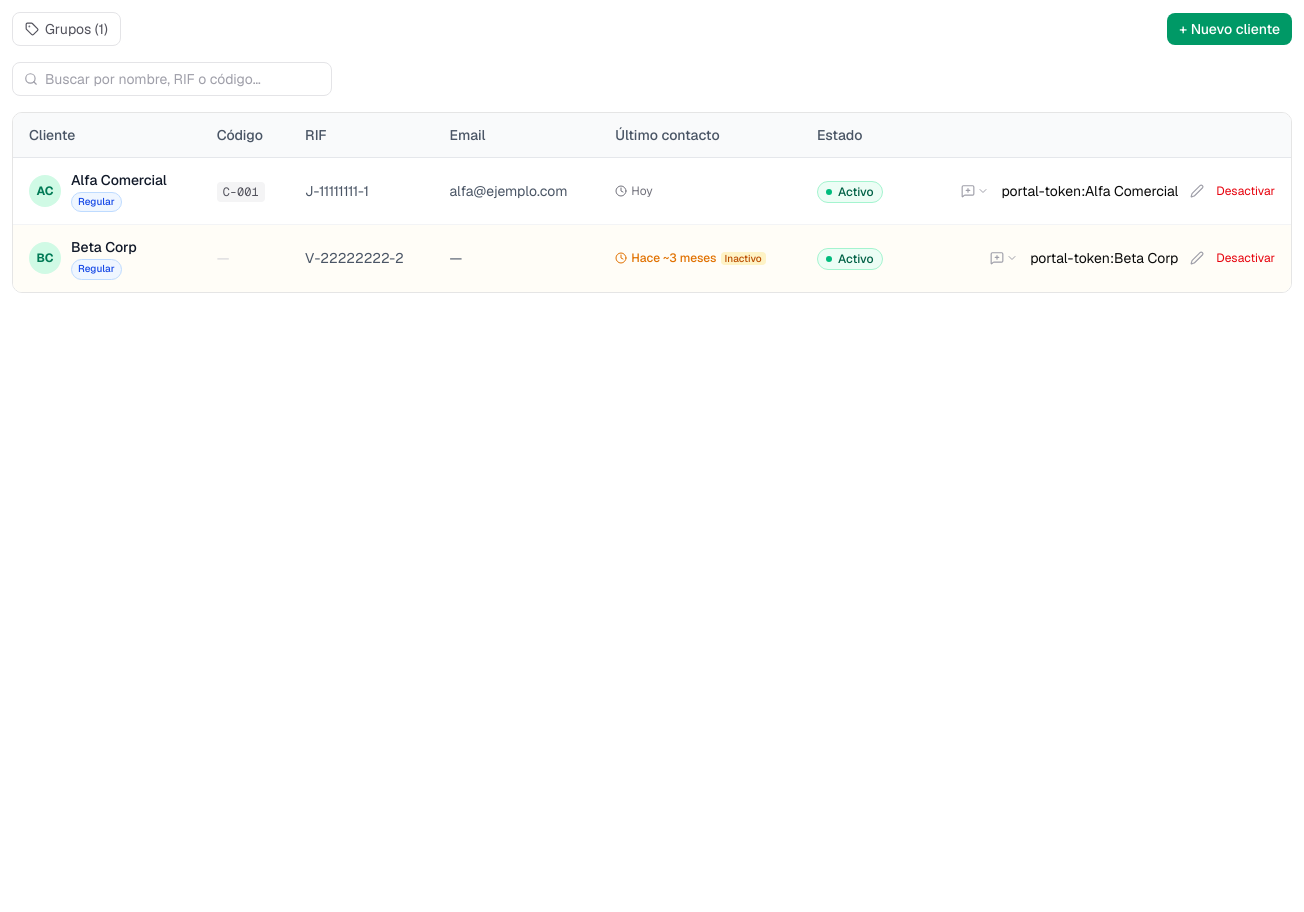
CustomerList — smoke del refactor RHF (P2) › createCustomerAction failure → muestra el error de la action y el form sigue abierto
The width and height of the screenshot is (1304, 912).
Click the button "+ Nuevo cliente": x=1230, y=29 [1167, 13, 1292, 45]
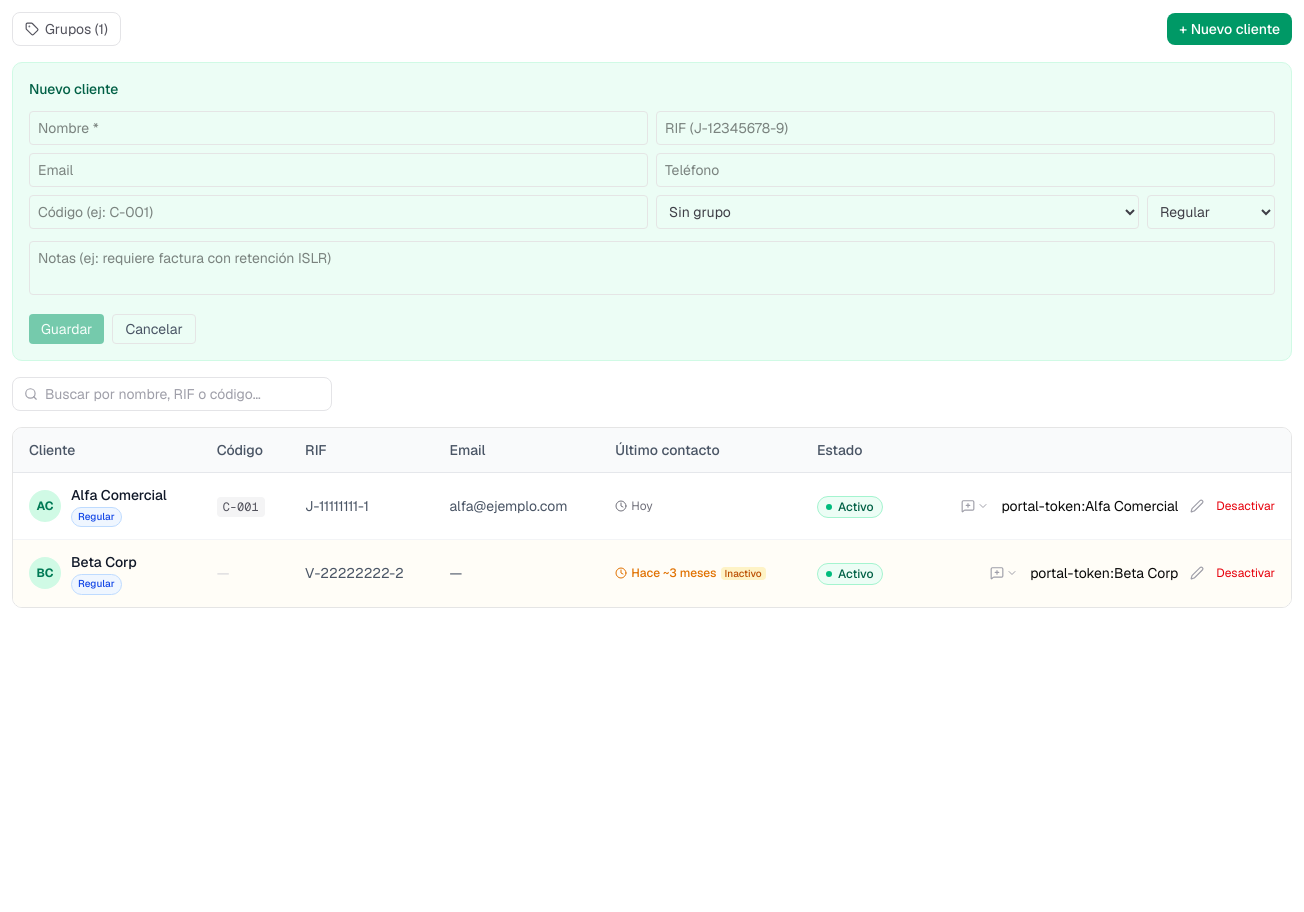
In the field with placeholder "Nombre *": x=338, y=128 [29, 111, 648, 145], type "Cliente Duplicado"
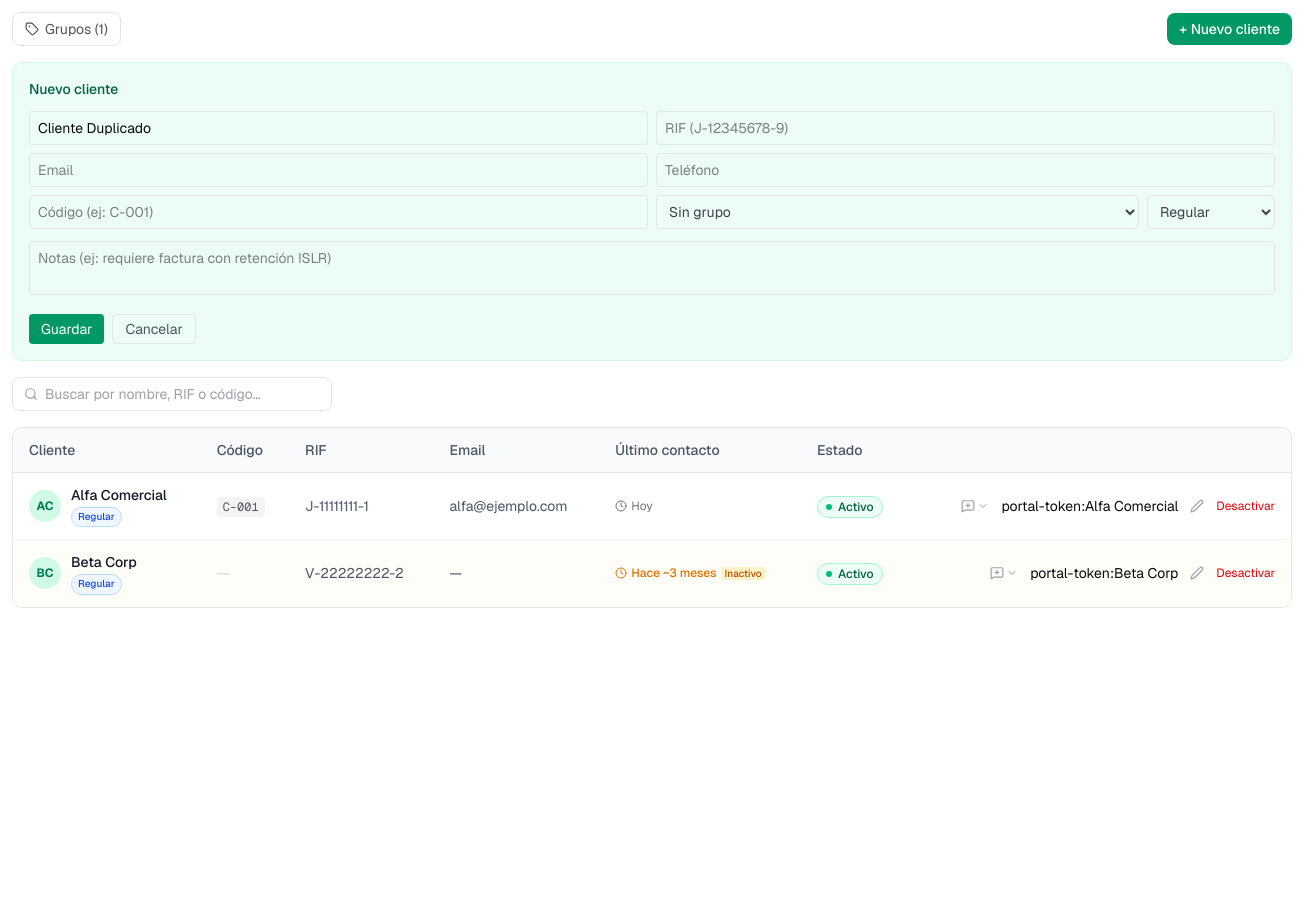
Click the button "Guardar": x=67, y=329 [29, 314, 104, 344]
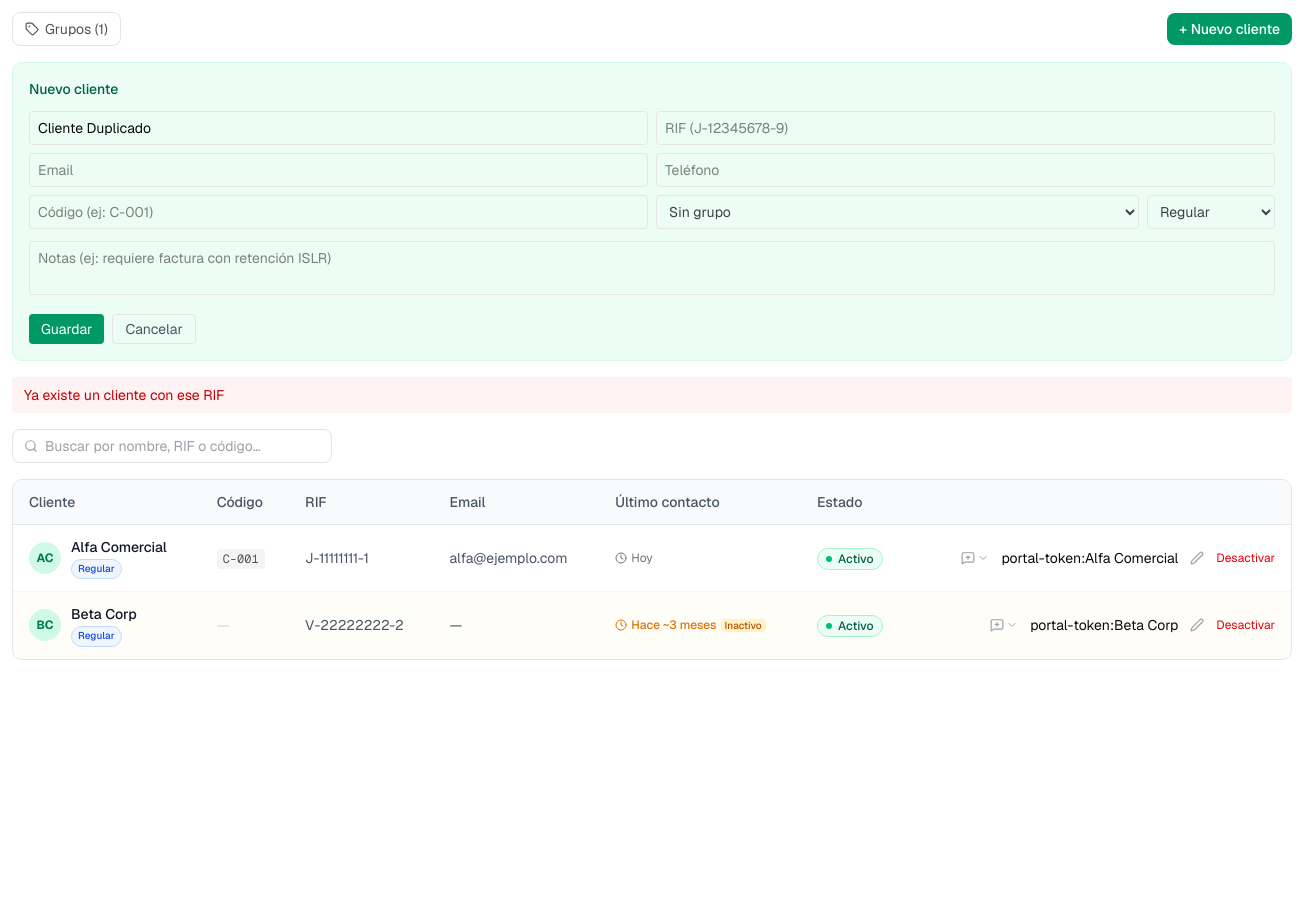
Check: the text "Ya existe un cliente con ese RIF" is shown, box [12, 377, 1292, 413]
